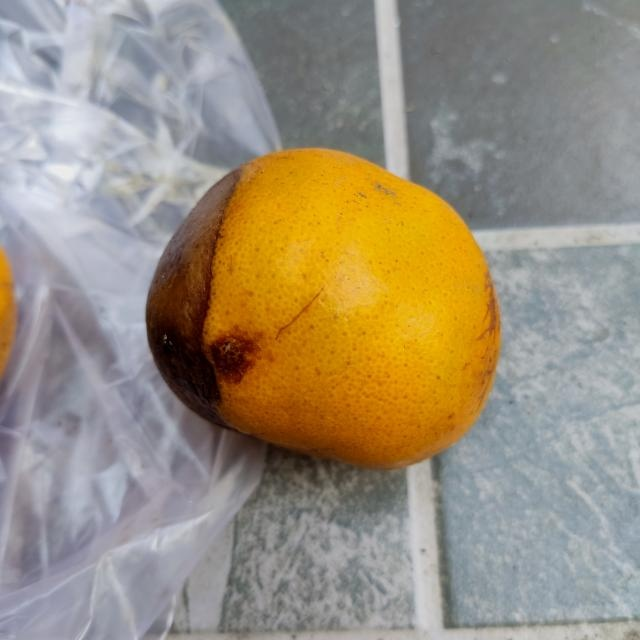agrume: (141, 143, 507, 478)
